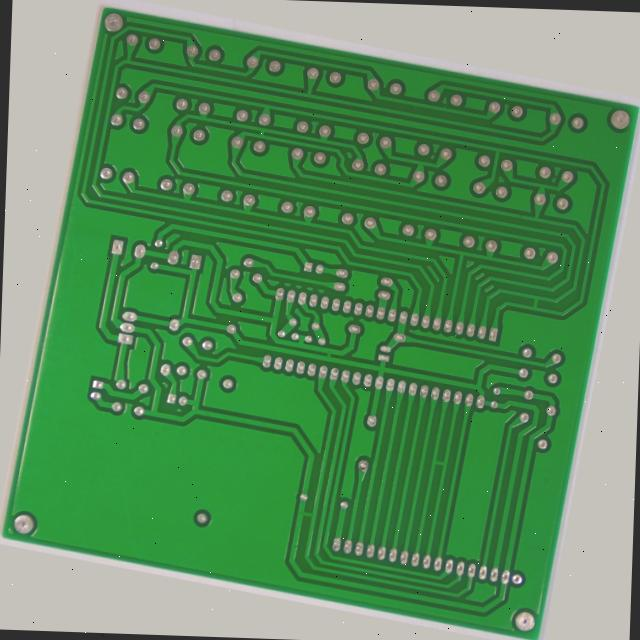short: (466, 450, 490, 468), (325, 533, 350, 550), (549, 250, 566, 275), (327, 347, 343, 367), (212, 111, 226, 127)
